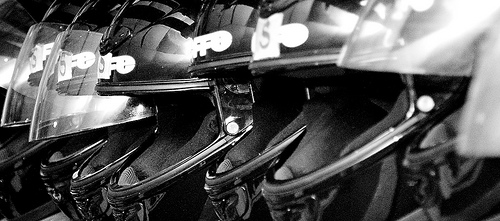helmet: (255, 10, 412, 205), (104, 27, 213, 198)
